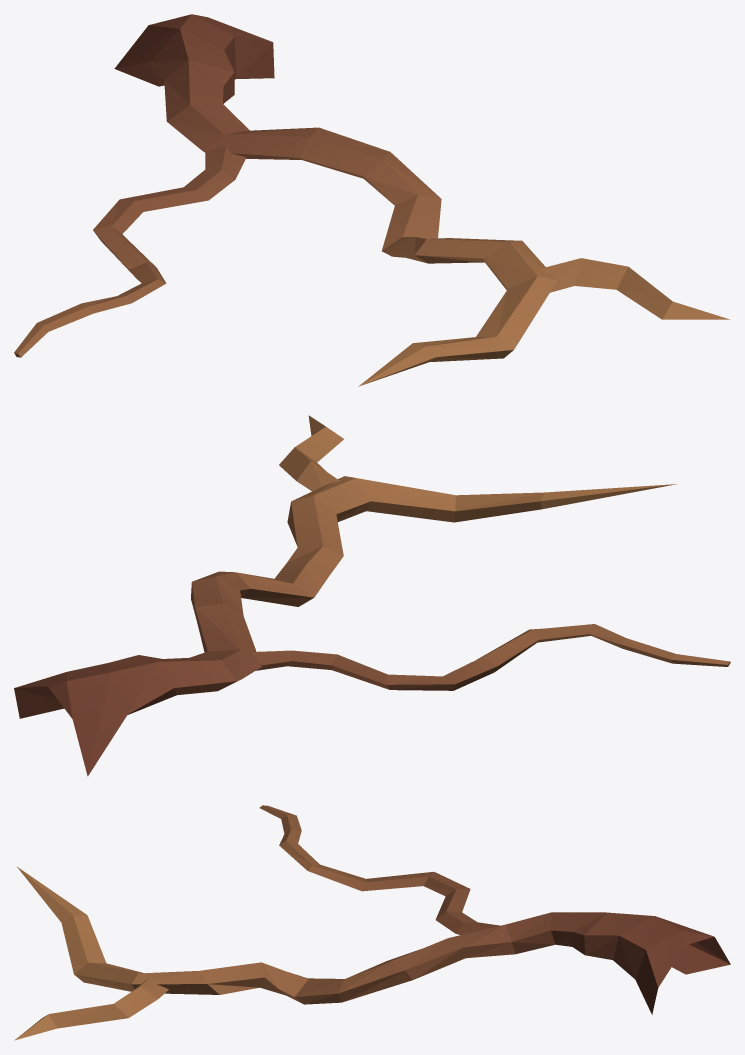
File: ZLP_Plant_Root_A_5.FBX
The picture shows the model from 3 angles, top to bottom: view 1: azimuth 30°, elevation 25°; view 2: azimuth 150°, elevation 25°; view 3: azimuth 270°, elevation 25°; orthographic projection. The views are drawn at different scales.
Visible parts, largest first — view 1: ZLP_Plant_Root_A_5; view 2: ZLP_Plant_Root_A_5; view 3: ZLP_Plant_Root_A_5.
Part boxes in pixels (x1,y1,x2,y2): ZLP_Plant_Root_A_5: [14, 14, 729, 386]; ZLP_Plant_Root_A_5: [14, 415, 730, 776]; ZLP_Plant_Root_A_5: [14, 805, 730, 1040].
Bounding box in the file's own units: 217 × 30.7 × 277.
